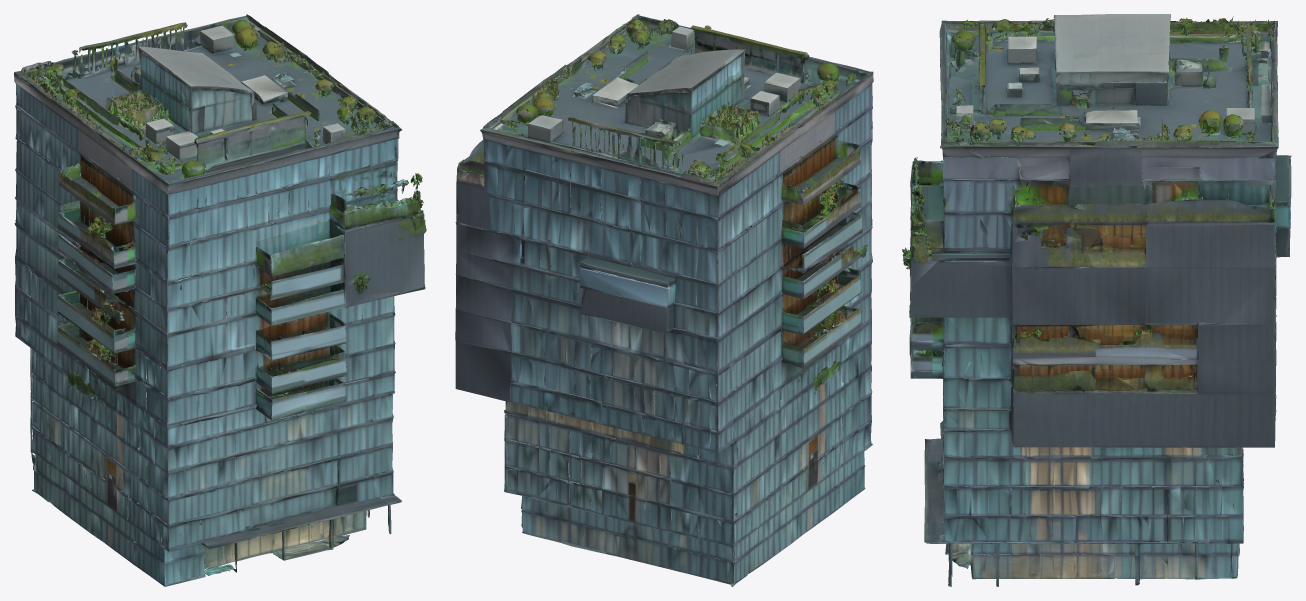
Rendered from big_bld2.fbx.
3 views of the same model, side by side, from view 1: azimuth 30°, elevation 25°; view 2: azimuth 150°, elevation 25°; view 3: azimuth 270°, elevation 25° (orthographic). The views are drawn at different scales.
Visible parts, largest first — view 1: big_bld2; view 2: big_bld2; view 3: big_bld2.
Part boxes in pixels (box(x1,y1,x2,y2)): big_bld2: box(14, 14, 426, 586); big_bld2: box(455, 14, 873, 586); big_bld2: box(902, 14, 1291, 586).
Size of the model in its own units: 1.31 by 2 by 1.44.
Materials: 1 (1 with a texture image).
